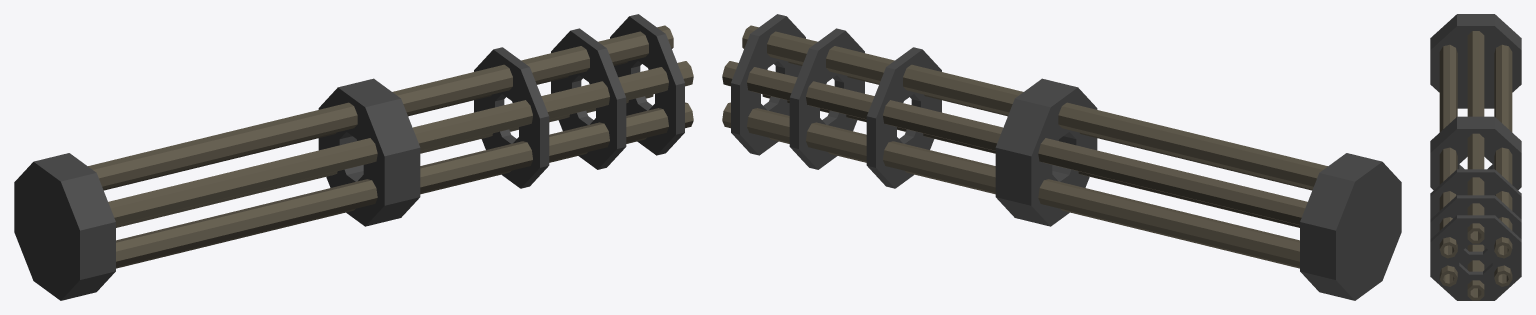
The model's file is LMG1_04_2.fbx.
3 views of the same model, side by side, from view 1: azimuth 30°, elevation 25°; view 2: azimuth 150°, elevation 25°; view 3: azimuth 270°, elevation 25° (orthographic). The views are drawn at different scales.
Parts seen in each view (by area): view 1: LMG1_04_2; view 2: LMG1_04_2; view 3: LMG1_04_2.
Part boxes in pixels (left/top/right/bottom): LMG1_04_2: left=14, top=14, right=693, bottom=300; LMG1_04_2: left=722, top=14, right=1401, bottom=300; LMG1_04_2: left=1430, top=14, right=1521, bottom=300.
Size of the model in its own units: 0.8235 by 0.1514 by 0.1514.
